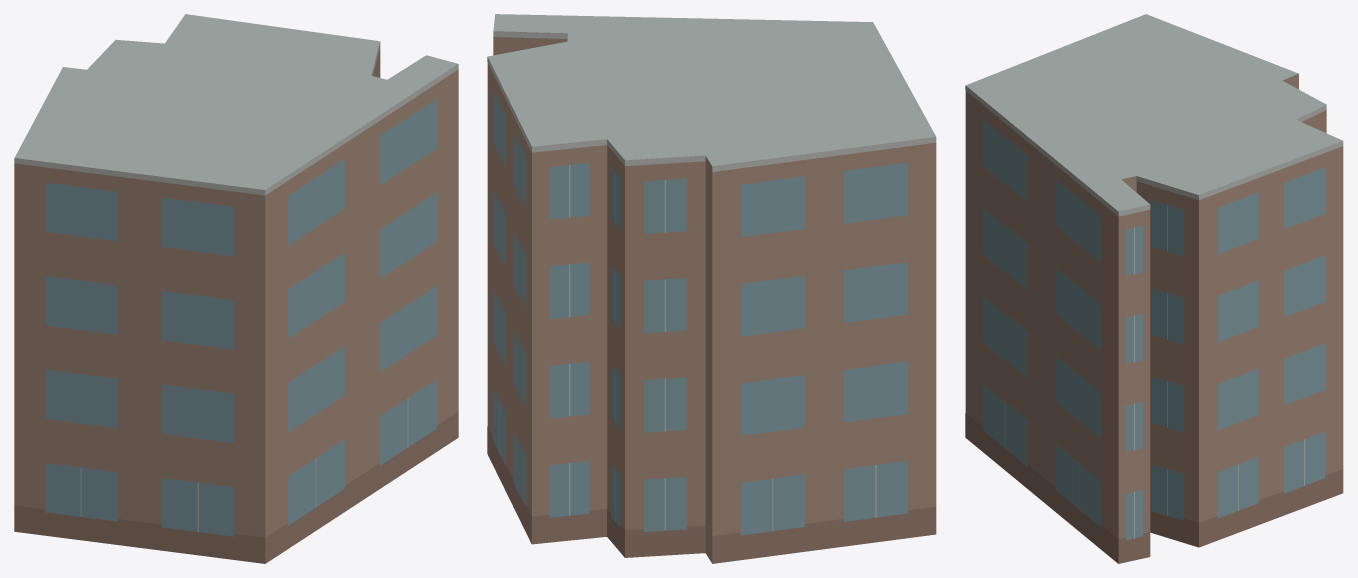
File: survey-upis-33030842.glb
The picture shows the model from 3 angles, left to right: view 1: azimuth 30°, elevation 25°; view 2: azimuth 150°, elevation 25°; view 3: azimuth 270°, elevation 25°; orthographic projection. The views are drawn at different scales.
Visible parts, largest first — view 1: survey-upis-33030842.tmp; view 2: survey-upis-33030842.tmp; view 3: survey-upis-33030842.tmp.
Part boxes in pixels (x1,y1,x2,y2): survey-upis-33030842.tmp: (14, 14, 458, 563); survey-upis-33030842.tmp: (487, 14, 936, 563); survey-upis-33030842.tmp: (965, 14, 1343, 563).
Size of the model in its own units: 20.12 by 16.73 by 16.27.
